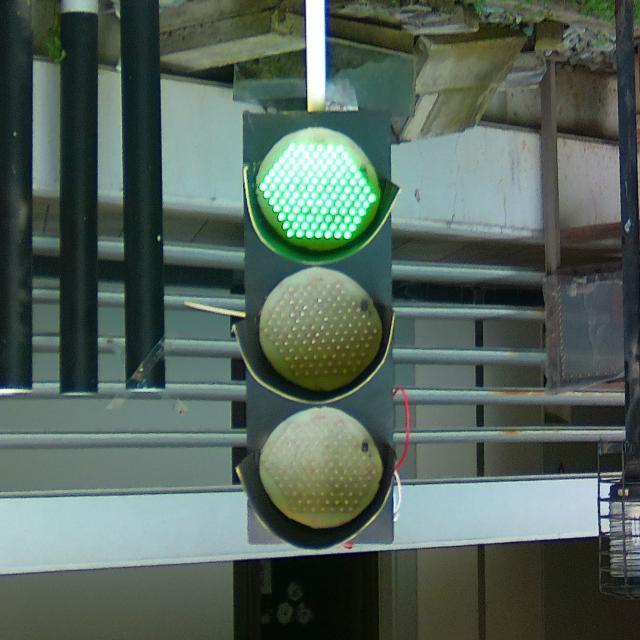green_light: (233, 103, 412, 553)
